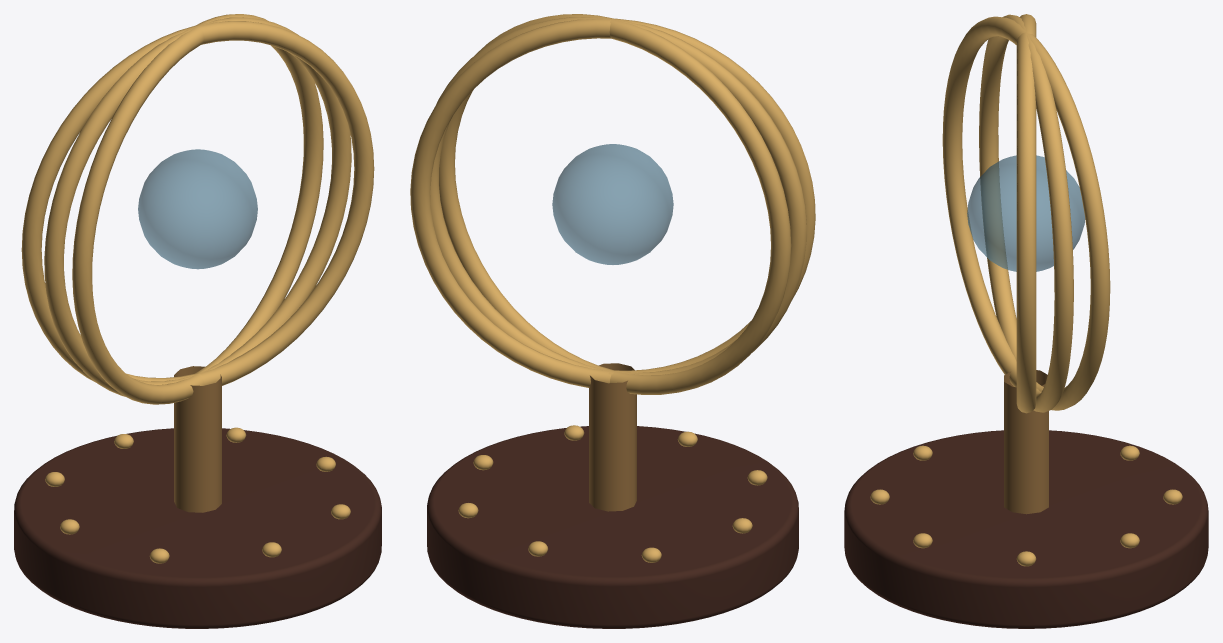
Rendered from artificer-armillary-v1.glb.
3 views of the same model, side by side, from view 1: azimuth 30°, elevation 25°; view 2: azimuth 150°, elevation 25°; view 3: azimuth 270°, elevation 25° (orthographic). The views are drawn at different scales.
Parts seen in each view (by area): view 1: ArmillaryFoot, ArmillaryRing0, ArmillaryRing2, ArmillaryRing1, ArmillaryHeart, ArmillaryStem; view 2: ArmillaryFoot, ArmillaryRing0, ArmillaryRing2, ArmillaryHeart, ArmillaryRing1, ArmillaryStem; view 3: ArmillaryFoot, ArmillaryRing2, ArmillaryRing1, ArmillaryRing0, ArmillaryHeart, ArmillaryStem.
Part boxes in pixels (bbox=[...]): ArmillaryFoot: bbox=[14, 428, 381, 628]; ArmillaryRing0: bbox=[21, 21, 374, 385]; ArmillaryRing2: bbox=[72, 14, 323, 404]; ArmillaryRing1: bbox=[44, 17, 351, 396]; ArmillaryHeart: bbox=[138, 149, 257, 269]; ArmillaryStem: bbox=[174, 366, 221, 512]; ArmillaryFoot: bbox=[427, 426, 798, 628]; ArmillaryRing0: bbox=[439, 14, 791, 394]; ArmillaryRing2: bbox=[410, 18, 815, 387]; ArmillaryHeart: bbox=[552, 144, 673, 264]; ArmillaryRing1: bbox=[430, 17, 806, 375]; ArmillaryStem: bbox=[589, 363, 636, 511]; ArmillaryFoot: bbox=[844, 430, 1208, 628]; ArmillaryRing2: bbox=[942, 16, 1110, 410]; ArmillaryRing1: bbox=[979, 14, 1073, 412]; ArmillaryRing0: bbox=[1016, 14, 1036, 413]; ArmillaryHeart: bbox=[967, 155, 1085, 271]; ArmillaryStem: bbox=[1004, 370, 1048, 514].
Bounding box in the file's own units: 1.01 × 1.45 × 0.92.
